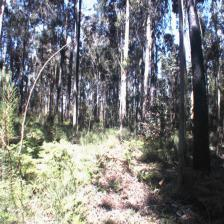trunktrack_idkeyframe: (192, 55, 210, 163), (178, 54, 184, 157)
